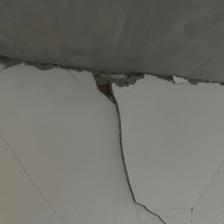High: (1, 53, 224, 224)
